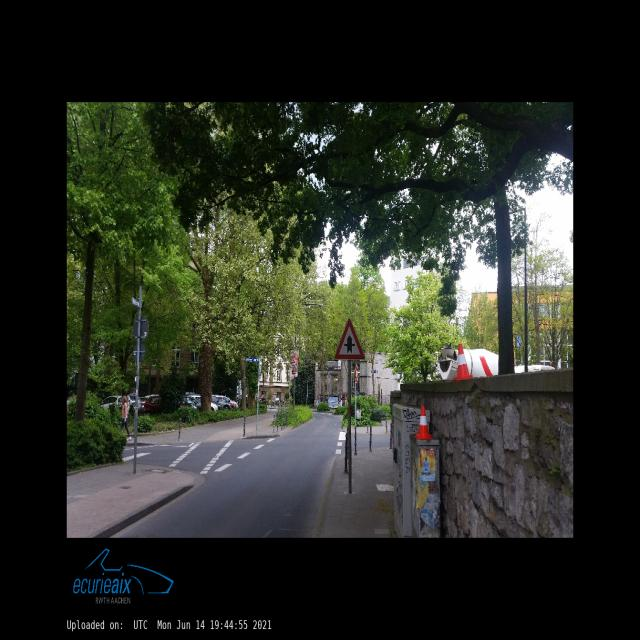orange_cone: (452, 344, 473, 380), (416, 406, 432, 439)
